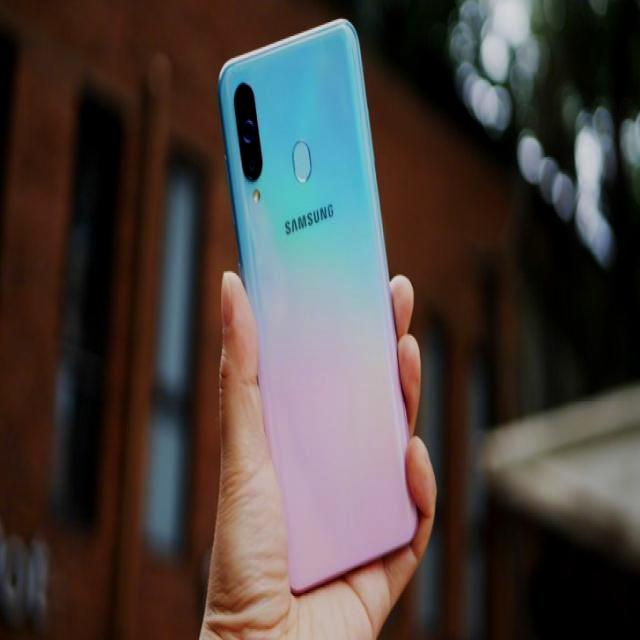lens: (235, 83, 266, 183)
phone: (217, 20, 423, 590)
